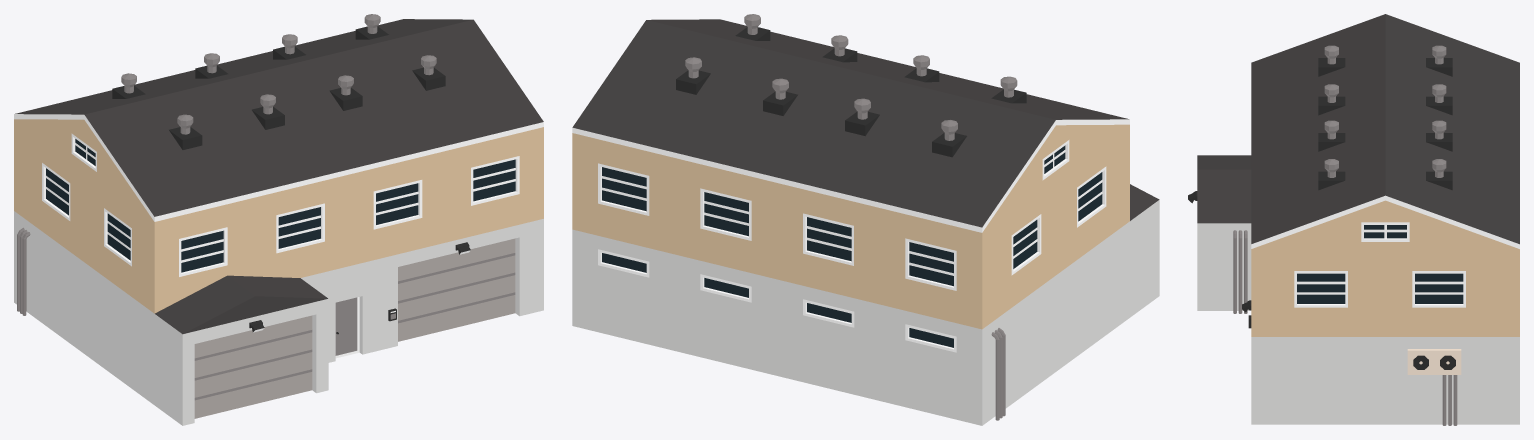
Rendered from industry-building.glb.
3 renders of one model, left to right at view 1: azimuth 30°, elevation 25°; view 2: azimuth 150°, elevation 25°; view 3: azimuth 270°, elevation 25°, orthographic. The views are drawn at different scales.
Parts seen in each view (by area): view 1: industry-building; view 2: industry-building; view 3: industry-building.
Boxes of the visible parts, <box> form: industry-building: <box>14,14,543,425</box>; industry-building: <box>572,14,1159,425</box>; industry-building: <box>1188,14,1519,425</box>.
Size of the model in its own units: 16.41 by 9.49 by 12.35.
1 material, 1 textured.
